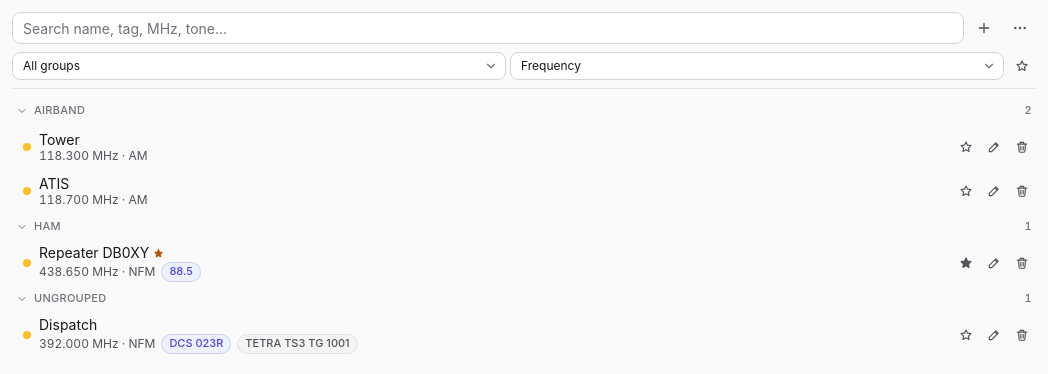
Test: bookmarks v2 panel › filters by group and favourites
Select "Airband" in the dropdown named "Group" at (259, 66), box [12,52,506,80]
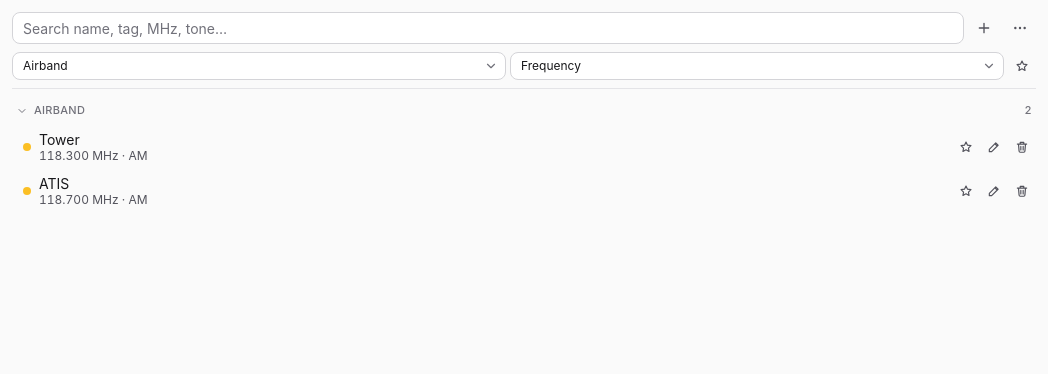
Result: the number of buttons named "Tune to" is 2 at [12,127,950,167]; [12,171,950,211]
Select "All groups" in the dropdown named "Group" at (259, 66), box [12,52,506,80]
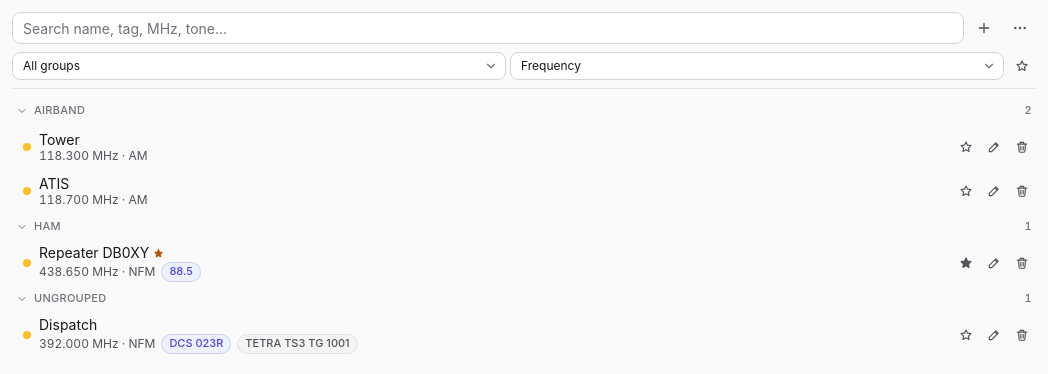
Click the button named "Favourites only" at (1022, 66), box [1008,52,1036,80]
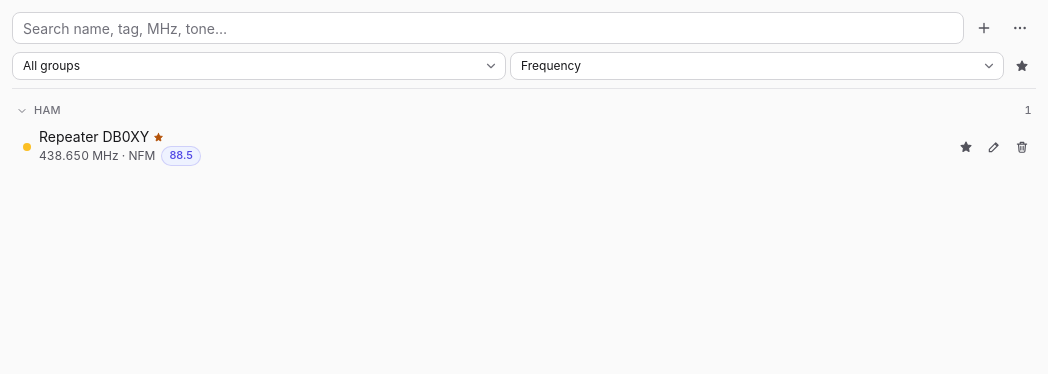
Result: the number of buttons named "Tune to" is 1 at [12,127,950,167]
